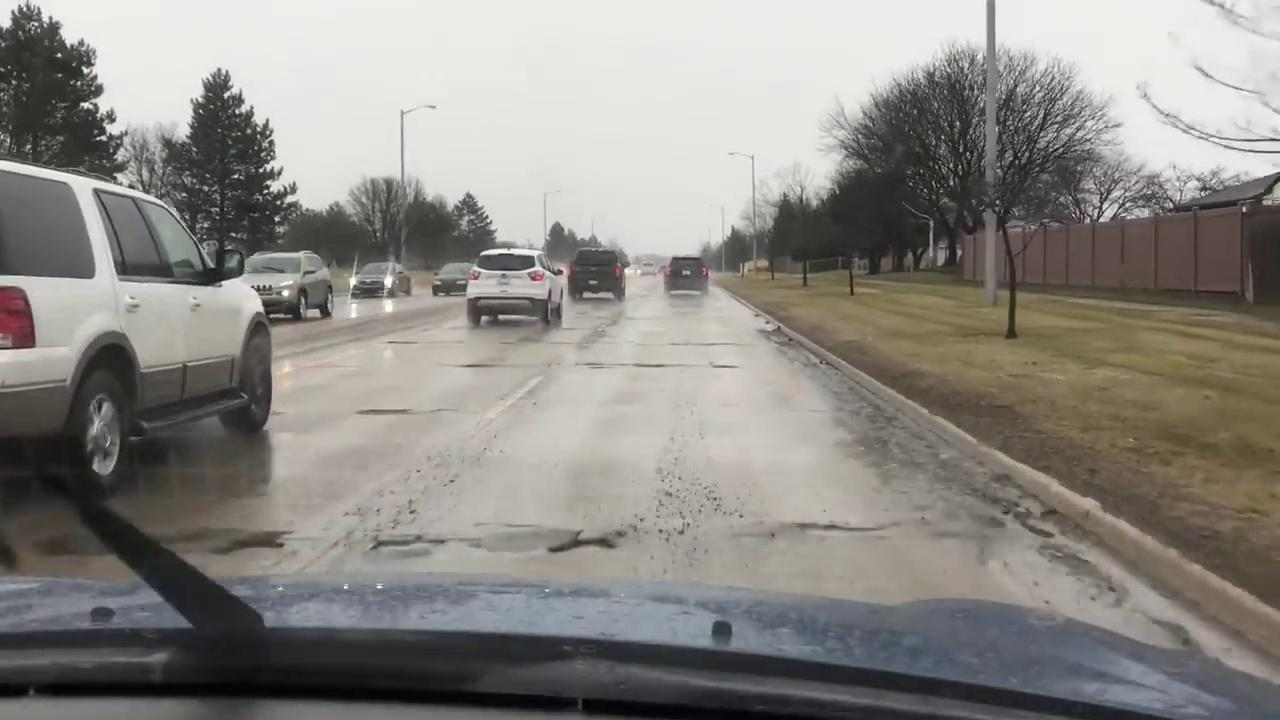pothole: (547, 530, 622, 552), (214, 532, 289, 554), (372, 535, 445, 550), (791, 521, 884, 532), (582, 360, 701, 367), (669, 341, 741, 346), (357, 408, 411, 413), (454, 364, 504, 369), (384, 340, 419, 344)
